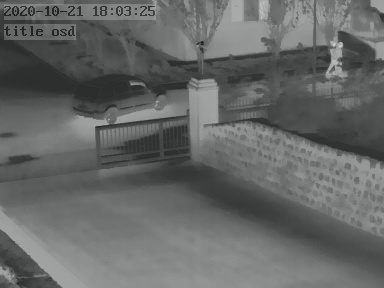person: (327, 36, 344, 76)
vehicle: (80, 76, 168, 122)
